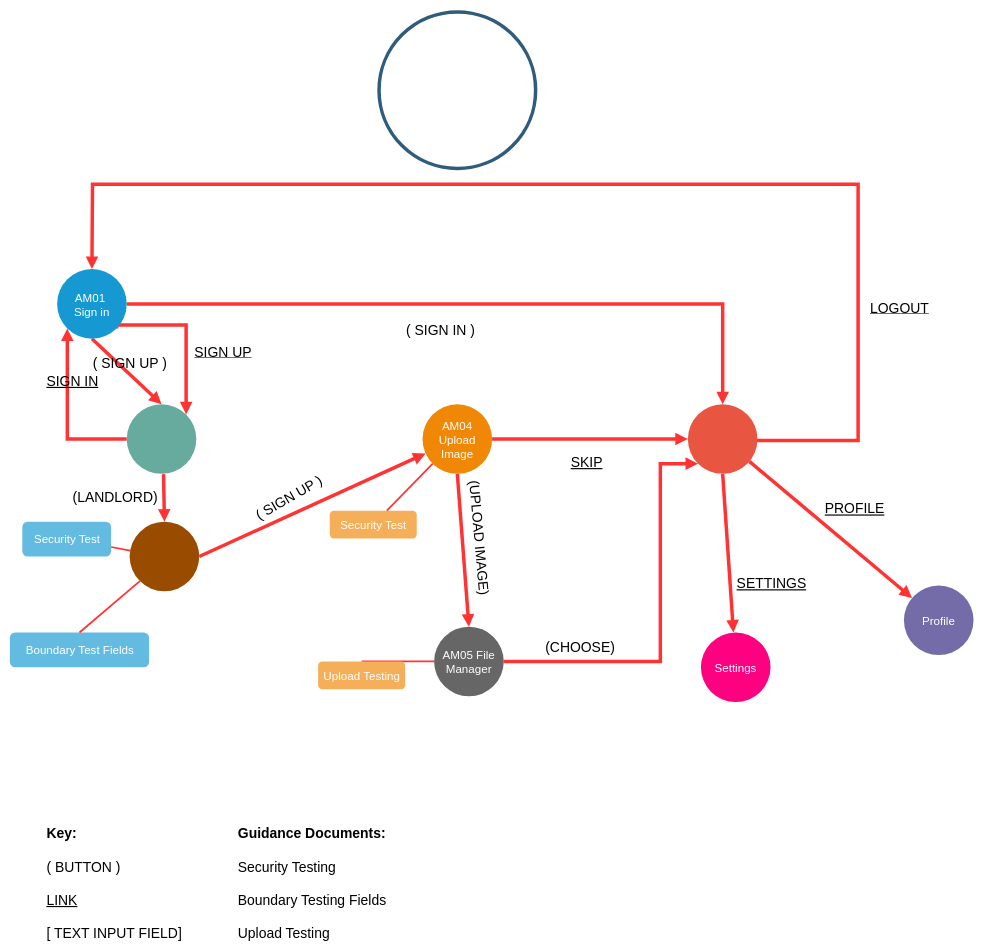
The diagram is 984 pixels wide and 952 high, and some of its shapes have lost their labels. Each missing label, with the centre of its shape:
Access Management: the point at 457,90
AM02 Landlord/ Tenant: the point at 161,439
AM03 Sign Up: the point at 164,556
AM06 Dashboard: the point at 722,439
